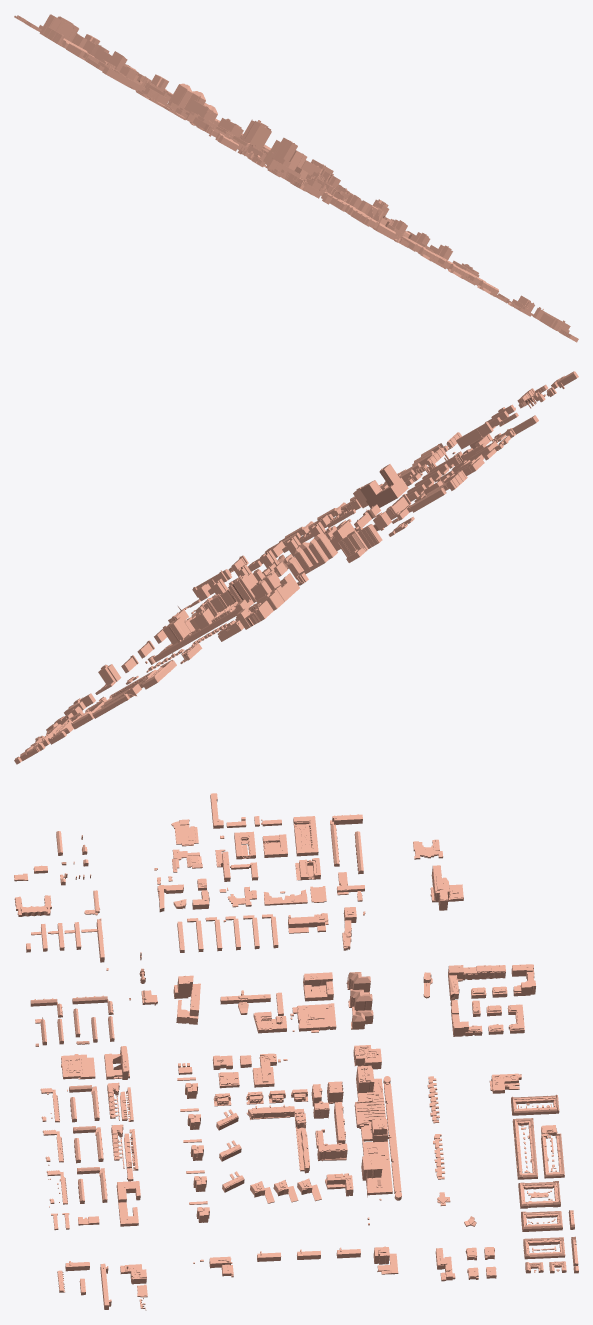
3 renders of one model, top to bottom at view 1: azimuth 30°, elevation 25°; view 2: azimuth 150°, elevation 25°; view 3: azimuth 270°, elevation 25°, orthographic. The views are drawn at different scales.
Bounding box in the file's own units: 3.53e+07 × 2.67e+07 × 4.23e+07.
